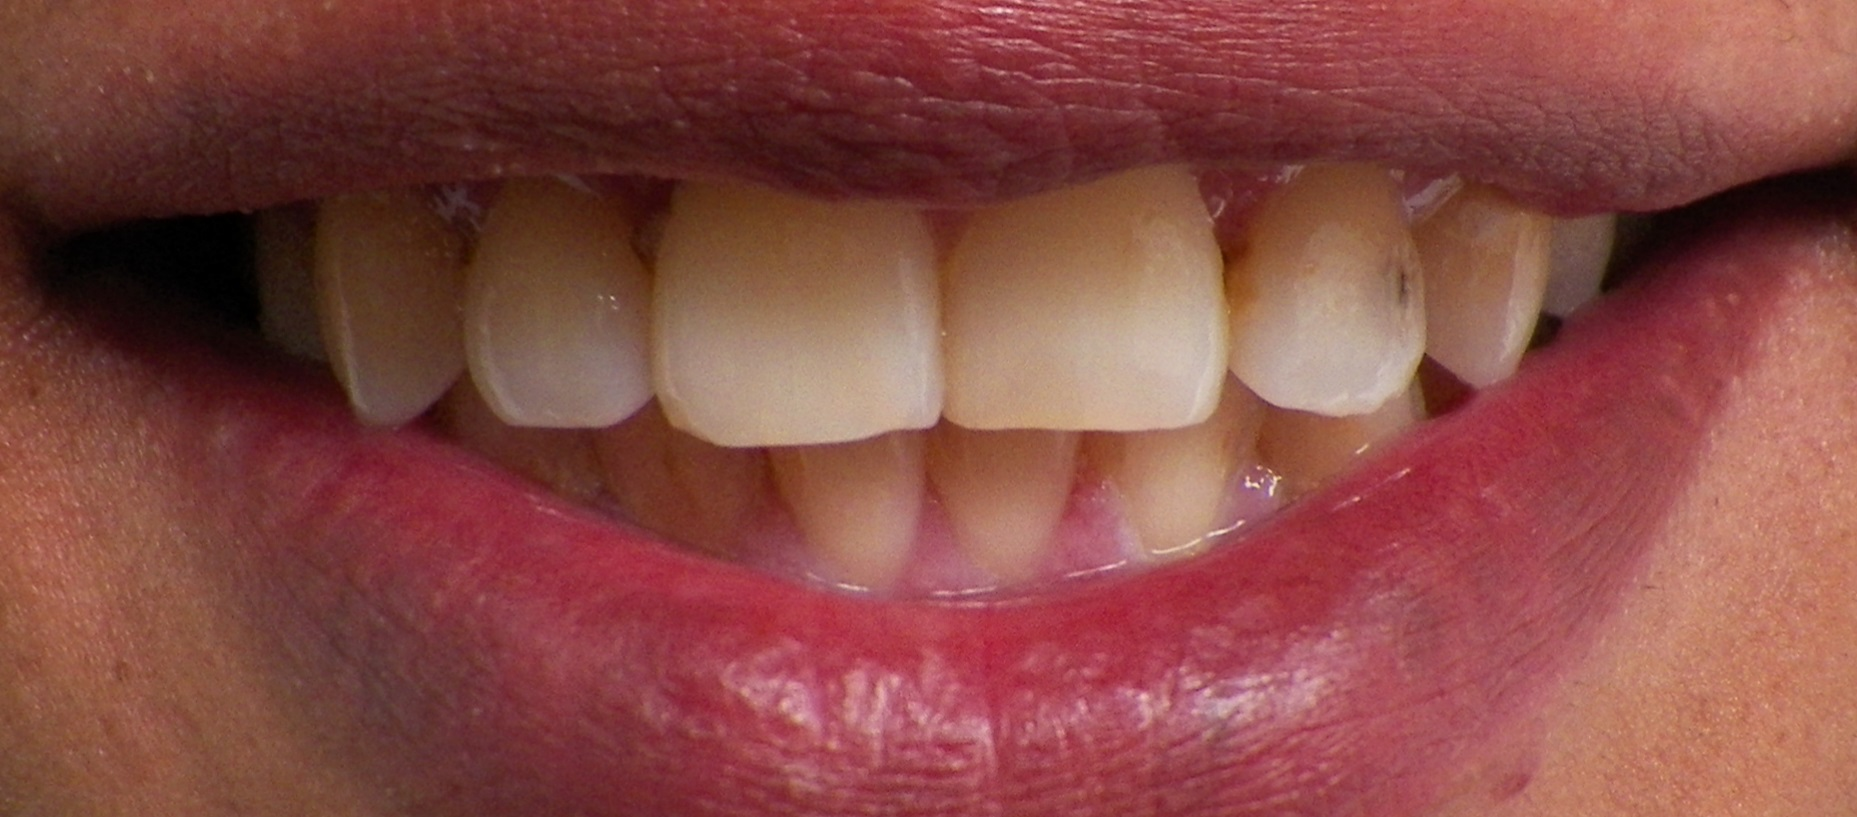boca: (278, 172, 1647, 575)
